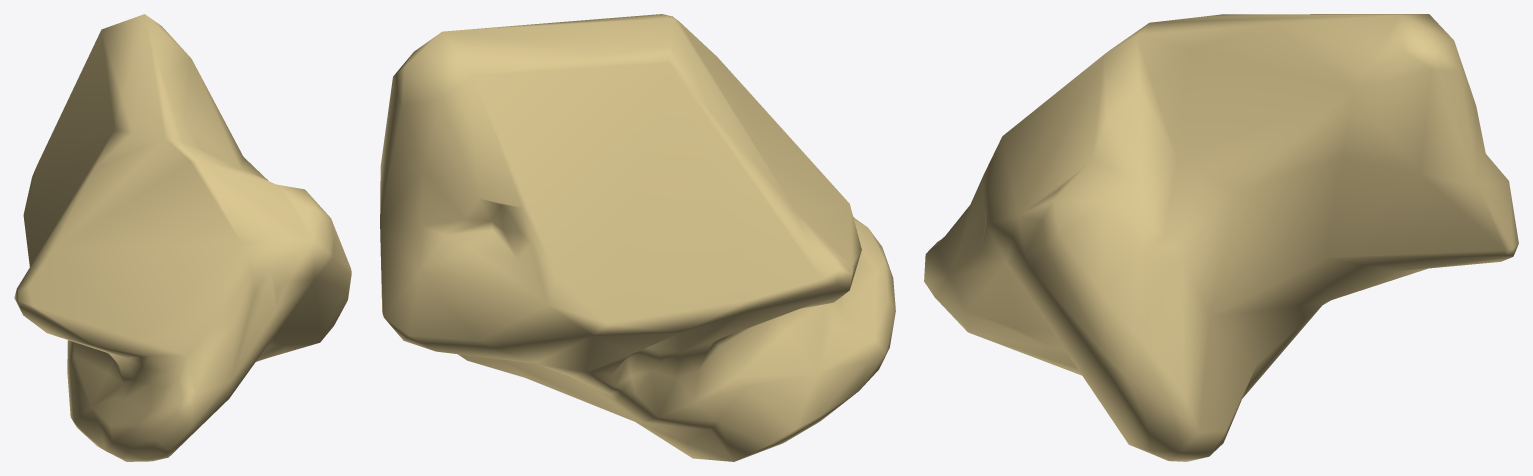
3 views of the same model, side by side, from view 1: azimuth 30°, elevation 25°; view 2: azimuth 150°, elevation 25°; view 3: azimuth 270°, elevation 25° (orthographic). The views are drawn at different scales.
Visible parts, largest first — view 1: 左侧大多角骨; view 2: 左侧大多角骨; view 3: 左侧大多角骨.
Part boxes in pixels (<box>): 左侧大多角骨: <box>14,14,351,461</box>; 左侧大多角骨: <box>380,14,895,461</box>; 左侧大多角骨: <box>924,14,1518,461</box>.
Bounding box in the file's own units: 0.026 × 0.0258 × 0.0306.
